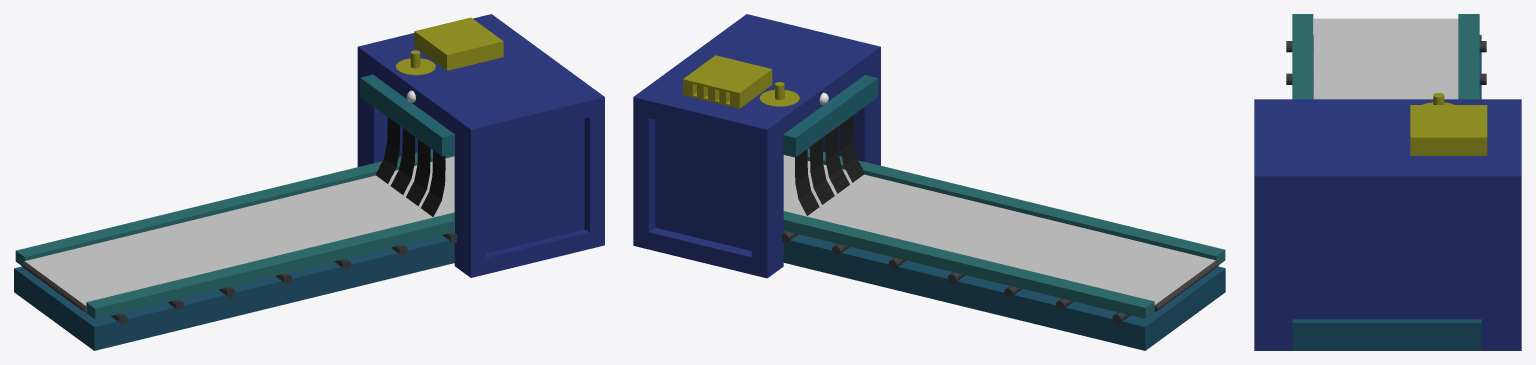
File: Convere belt.fbx
The picture shows the model from 3 angles, left to right: view 1: azimuth 30°, elevation 25°; view 2: azimuth 150°, elevation 25°; view 3: azimuth 270°, elevation 25°; orthographic projection. The views are drawn at different scales.
Parts seen in each view (by area): view 1: Cube.002, Cube.026, Cube.001, Cube.025, Cube.024, Cube.023, Cube.012, Cube.006, Cube.004, Cube, Cube.005, Cylinder.006 (+2 smaller); view 2: Cube.002, Cube.026, Cube.001, Cube.024, Cube.025, Cube.023, Cube.012, Cylinder.006, Cube.005, Cube.006, Cube, Cube.004 (+2 smaller); view 3: Cube.002, Cube.026, Cube.001, Cube.023, Cube.024, Cube.025, Cylinder.006.
Boxes of the visible parts, x1=… form: Cube.002: x1=357, y1=14, x2=604, y2=277; Cube.026: x1=25, y1=156, x2=454, y2=312; Cube.001: x1=14, y1=232, x2=454, y2=350; Cube.025: x1=86, y1=212, x2=454, y2=319; Cube.024: x1=15, y1=149, x2=454, y2=265; Cube.023: x1=414, y1=17, x2=503, y2=70; Cube.012: x1=360, y1=74, x2=454, y2=156; Cube.006: x1=421, y1=150, x2=445, y2=216; Cube.004: x1=390, y1=128, x2=415, y2=194; Cube: x1=375, y1=117, x2=400, y2=183; Cube.005: x1=406, y1=139, x2=430, y2=206; Cylinder.006: x1=110, y1=232, x2=457, y2=324; Cube.002: x1=633, y1=14, x2=880, y2=278; Cube.026: x1=783, y1=155, x2=1215, y2=304; Cube.001: x1=783, y1=230, x2=1225, y2=350; Cube.024: x1=783, y1=211, x2=1154, y2=318; Cube.025: x1=783, y1=148, x2=1225, y2=264; Cube.023: x1=683, y1=55, x2=772, y2=108; Cube.012: x1=783, y1=75, x2=877, y2=156; Cylinder.006: x1=782, y1=231, x2=1130, y2=323; Cube.005: x1=825, y1=126, x2=849, y2=193; Cube.006: x1=840, y1=115, x2=864, y2=182; Cube: x1=795, y1=149, x2=819, y2=215; Cube.004: x1=810, y1=138, x2=834, y2=204; Cube.002: x1=1254, y1=99, x2=1521, y2=350; Cube.026: x1=1313, y1=18, x2=1458, y2=99; Cube.001: x1=1292, y1=35, x2=1481, y2=350; Cube.023: x1=1410, y1=105, x2=1487, y2=155; Cube.024: x1=1458, y1=14, x2=1479, y2=99; Cube.025: x1=1292, y1=14, x2=1313, y2=99; Cylinder.006: x1=1286, y1=41, x2=1486, y2=84.
Bounding box in the file's own units: 1777 × 554 × 693.
